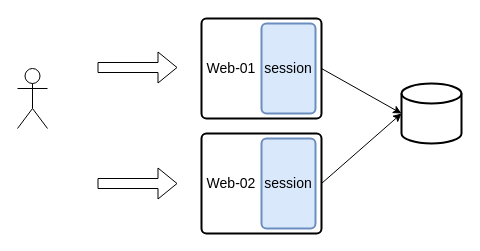
This 480x251 diagram has some shape labels left out. Here are the shapes that lost their labels. From the top down, the centre of each, then its label:
point (32, 98): Actor
point (431, 113): DB
